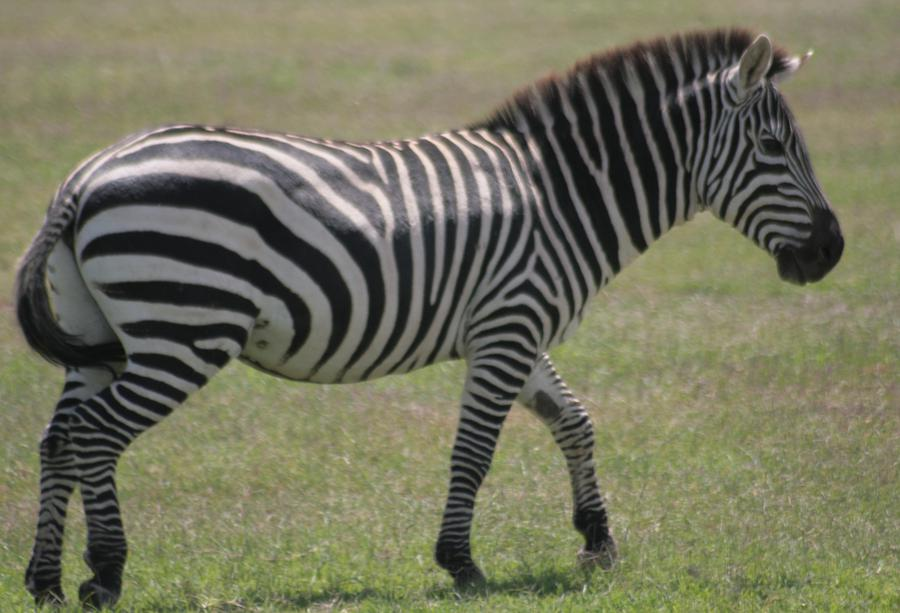zebra_plains: (111, 122, 575, 380)
